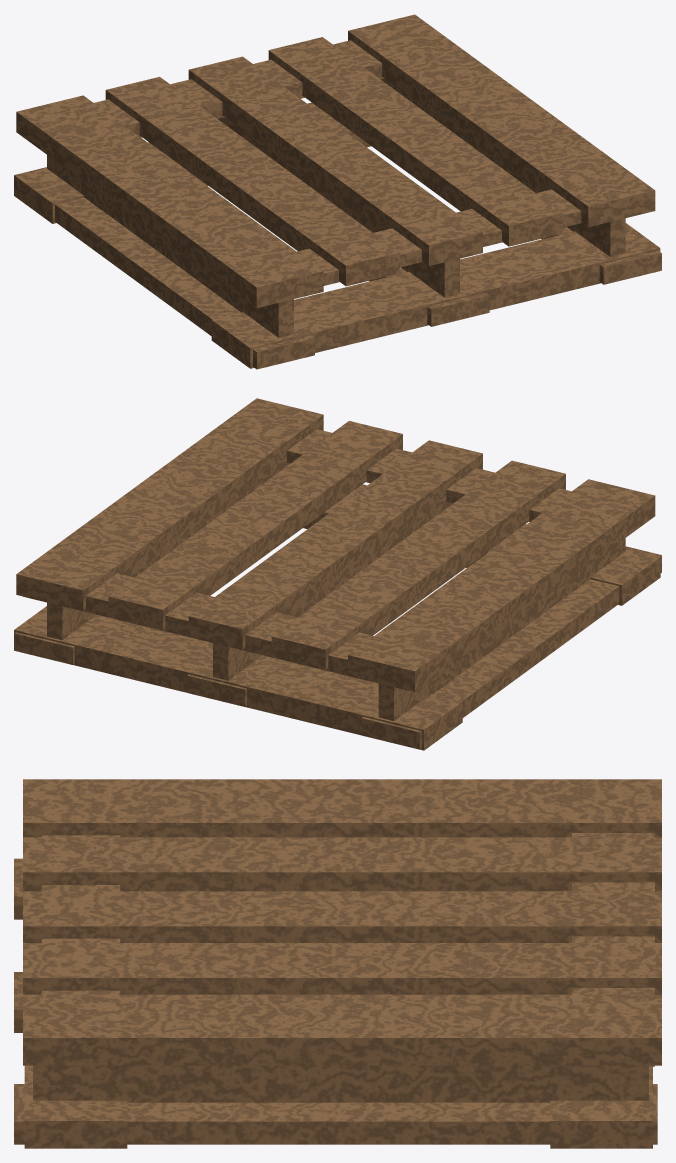
The model's file is WoodenPallet.fbx.
3 views of the same model, one above another, from view 1: azimuth 30°, elevation 25°; view 2: azimuth 150°, elevation 25°; view 3: azimuth 270°, elevation 25° (orthographic). The views are drawn at different scales.
Parts seen in each view (by area): view 1: WoodenPallet; view 2: WoodenPallet; view 3: WoodenPallet.
Boxes of the visible parts, x1,y1,x2,y2 form: WoodenPallet: (14,14,661,369); WoodenPallet: (14,398,661,750); WoodenPallet: (14,779,661,1148).
Bounding box in the file's own units: 119 × 22.22 × 122.
